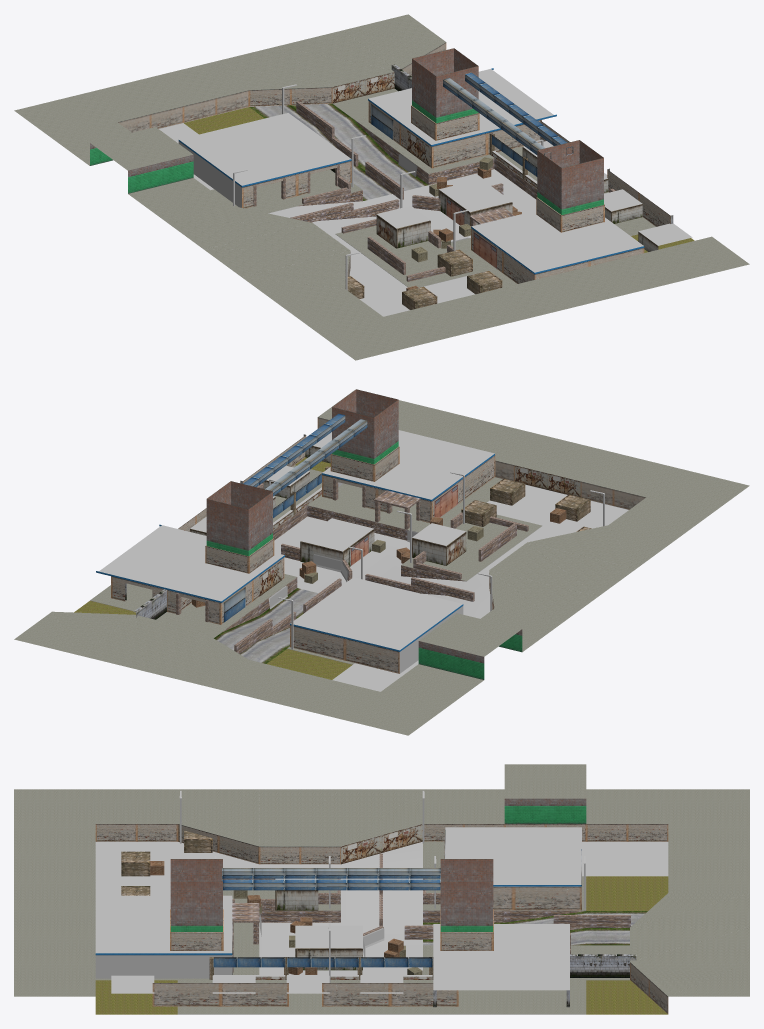
The model's file is cc-map.FBX.
3 views of the same model, one above another, from view 1: azimuth 30°, elevation 25°; view 2: azimuth 150°, elevation 25°; view 3: azimuth 270°, elevation 25° (orthographic). The views are drawn at different scales.
Visible parts, largest first — view 1: Plane01, wall85, wall64, wall79, wall115, wall106, wall120, wall52, wall03, wall63, wall77, wall48 (+6 smaller); view 2: Plane01, wall85, wall64, wall106, wall79, wall115, wall69, wall120, wall03, wall54, wall78, wall77 (+5 smaller); view 3: Plane01, wall85, wall115, wall79, wall106, wall64, wall120, wall62, wall03, wall134, wall157, wall167 (+2 smaller).
Boxes of the visible parts, x1,y1,x2,y2 form: Plane01: (14,14,749,360); wall85: (411,48,604,232); wall64: (178,113,351,207); wall79: (471,210,644,274); wall115: (391,64,692,251); wall106: (368,68,556,146); wall120: (438,179,512,225); wall52: (432,120,541,168); wall03: (376,205,430,248); wall63: (242,161,351,208); wall77: (471,228,534,283); wall48: (437,249,472,276); Plane01: (14,389,749,735); wall85: (205,389,399,573); wall64: (290,577,463,673); wall106: (96,524,284,602); wall79: (322,430,494,501); wall115: (133,432,331,619); wall69: (290,625,399,673); wall120: (300,518,374,566); wall03: (412,523,466,565); wall54: (111,576,220,624); wall78: (322,475,431,522); wall77: (432,455,495,518); Plane01: (14,764,749,1014); wall85: (170,859,493,950); wall115: (111,954,636,1006); wall79: (95,895,232,978); wall106: (433,924,569,990); wall64: (445,827,581,886); wall120: (295,925,362,970); wall62: (493,886,581,910); wall03: (275,878,318,910); wall134: (553,915,630,928); wall157: (121,851,150,876); wall167: (232,903,259,922).
Size of the model in its own units: 93.73 by 22.44 by 140.
